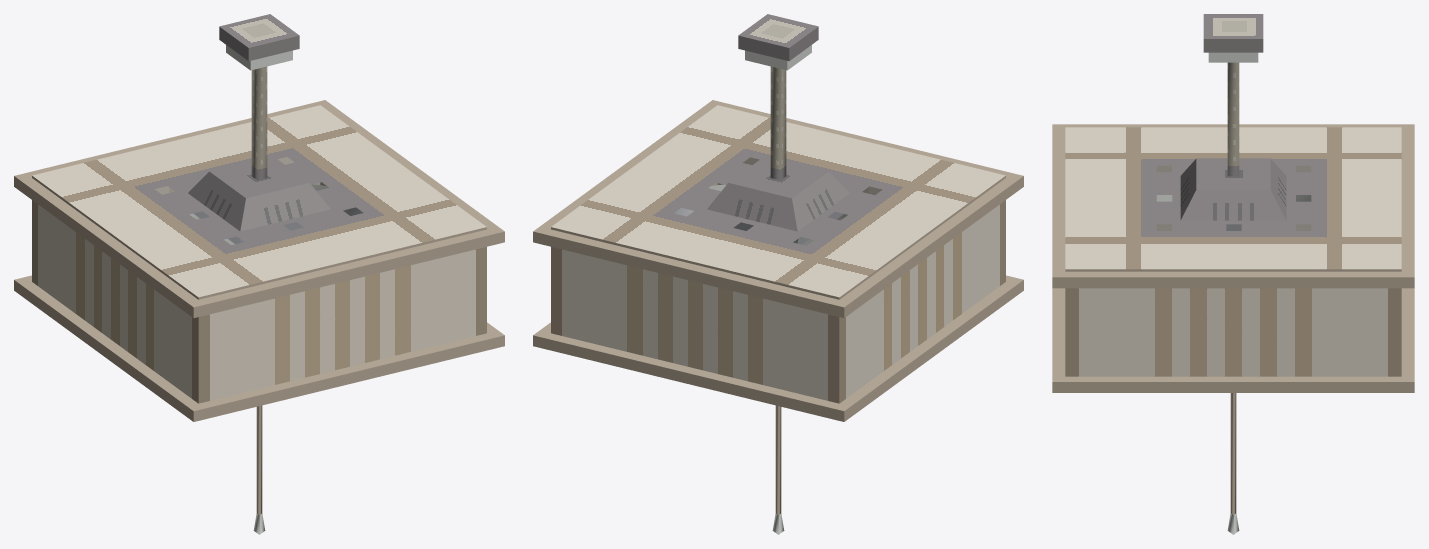
Rendered from 050f_Ceiling_Light.glb.
The picture shows the model from 3 angles, left to right: view 1: azimuth 30°, elevation 25°; view 2: azimuth 150°, elevation 25°; view 3: azimuth 270°, elevation 25°; orthographic projection.
Visible parts, largest first — view 1: part_0; view 2: part_0; view 3: part_0.
Part boxes in pixels (x1,y1,x2,y2): part_0: [14, 14, 504, 534]; part_0: [533, 14, 1023, 534]; part_0: [1052, 14, 1414, 534].
Bounding box in the file's own units: 0.5394 × 0.83 × 0.5394.
Materials: 1 (1 with a texture image).
